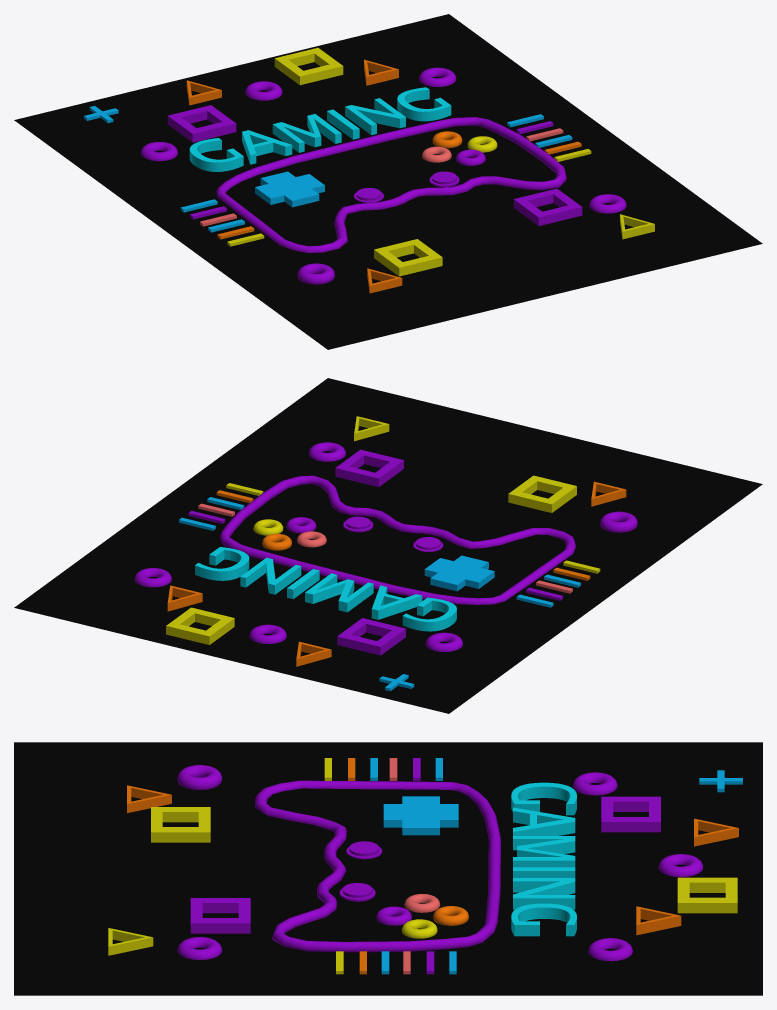
Rendered from Poster1.fbx.
3 views of the same model, one above another, from view 1: azimuth 30°, elevation 25°; view 2: azimuth 150°, elevation 25°; view 3: azimuth 270°, elevation 25° (orthographic). The views are drawn at different scales.
Parts seen in each view (by area): view 1: poster_1_backing, Controller, GAMING_Text, Rondje, Driehoek (×2), dpad, Vierkantjes, Vierkantje_1, pCube126, Vierkantje_2; view 2: poster_1_backing, Controller, GAMING_Text, Rondje, Driehoek (×2), dpad, Vierkantje_1, Vierkantje_2, Vierkantjes, pCube126; view 3: poster_1_backing, Controller, GAMING_Text, Rondje, Driehoek (×2), dpad, pCube126, Vierkantjes, Vierkantje_1, Vierkantje_2, oranje3, geel3 (+2 smaller).
Boxes of the visible parts, x1,y1,x2,y2 form: poster_1_backing: (14,14,762,349); Controller: (216,117,566,252); GAMING_Text: (189,87,451,171); Rondje: (140,67,626,284); Driehoek (×2): (186,59,654,293); dpad: (255,171,324,207); Vierkantjes: (513,188,582,225); Vierkantje_1: (167,105,236,142); pCube126: (274,47,343,85); Vierkantje_2: (374,239,442,276); poster_1_backing: (14,378,762,713); Controller: (220,475,575,604); GAMING_Text: (195,547,456,631); Rondje: (134,442,637,651); Driehoek (×2): (167,416,626,666); dpad: (424,555,494,591); Vierkantje_1: (337,618,405,655); Vierkantje_2: (508,475,576,512); Vierkantjes: (335,449,403,487); pCube126: (166,607,234,644); poster_1_backing: (14,742,762,995); Controller: (255,780,500,952); GAMING_Text: (511,782,576,936); Rondje: (177,765,703,961); Driehoek (×2): (108,785,738,955); dpad: (383,796,458,835); pCube126: (677,877,737,913); Vierkantjes: (190,898,250,933); Vierkantje_1: (601,796,660,832); Vierkantje_2: (151,807,210,842); oranje3: (433,906,468,925); geel3: (401,919,437,938).
Size of the model in its own units: 400 by 15.25 by 500.
